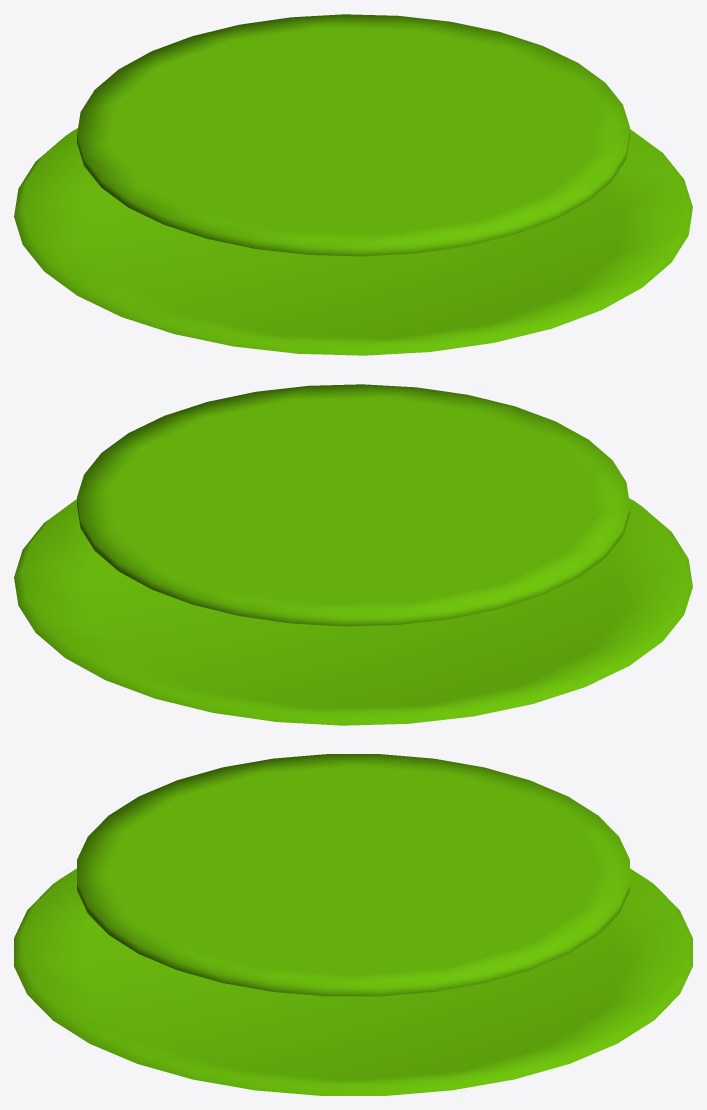
File: ManHole01Night.glb
3 renders of one model, top to bottom at view 1: azimuth 30°, elevation 25°; view 2: azimuth 150°, elevation 25°; view 3: azimuth 270°, elevation 25°, orthographic.
Visible parts, largest first — view 1: ManHole01Night; view 2: ManHole01Night; view 3: ManHole01Night.
Part boxes in pixels (x1,y1,x2,y2): ManHole01Night: (14,14,692,355); ManHole01Night: (14,384,692,725); ManHole01Night: (14,754,692,1095).
Size of the model in its own units: 1.17 by 0.1788 by 1.17.
Materials: 1 (1 with a texture image).
